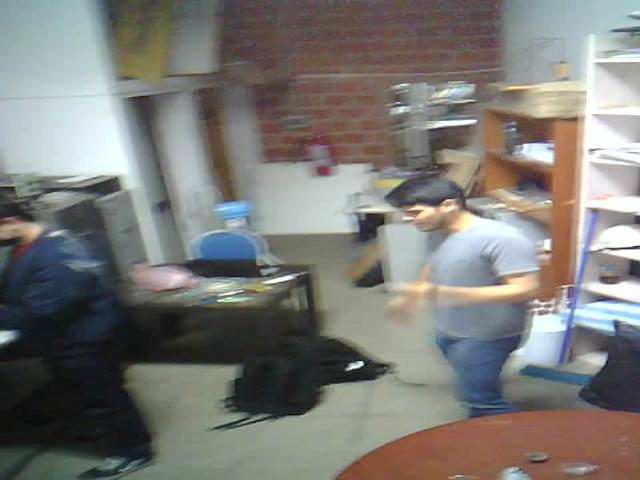person: (357, 145, 556, 432), (0, 189, 194, 480)
